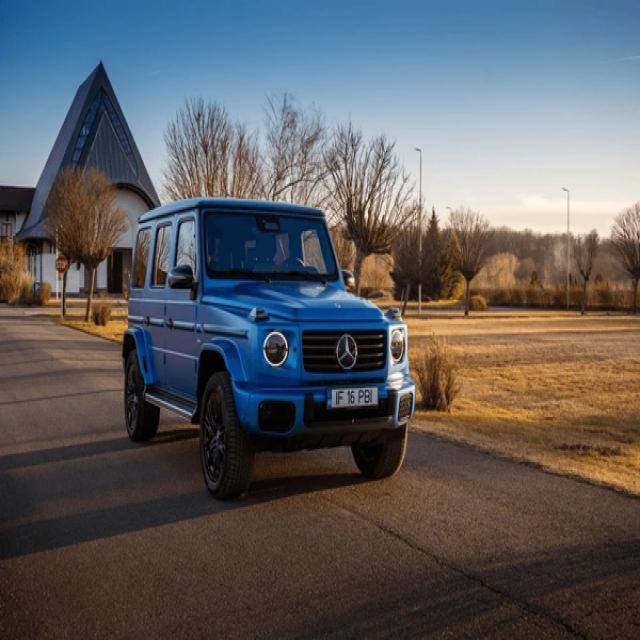mercedes: (336, 329, 358, 373)
